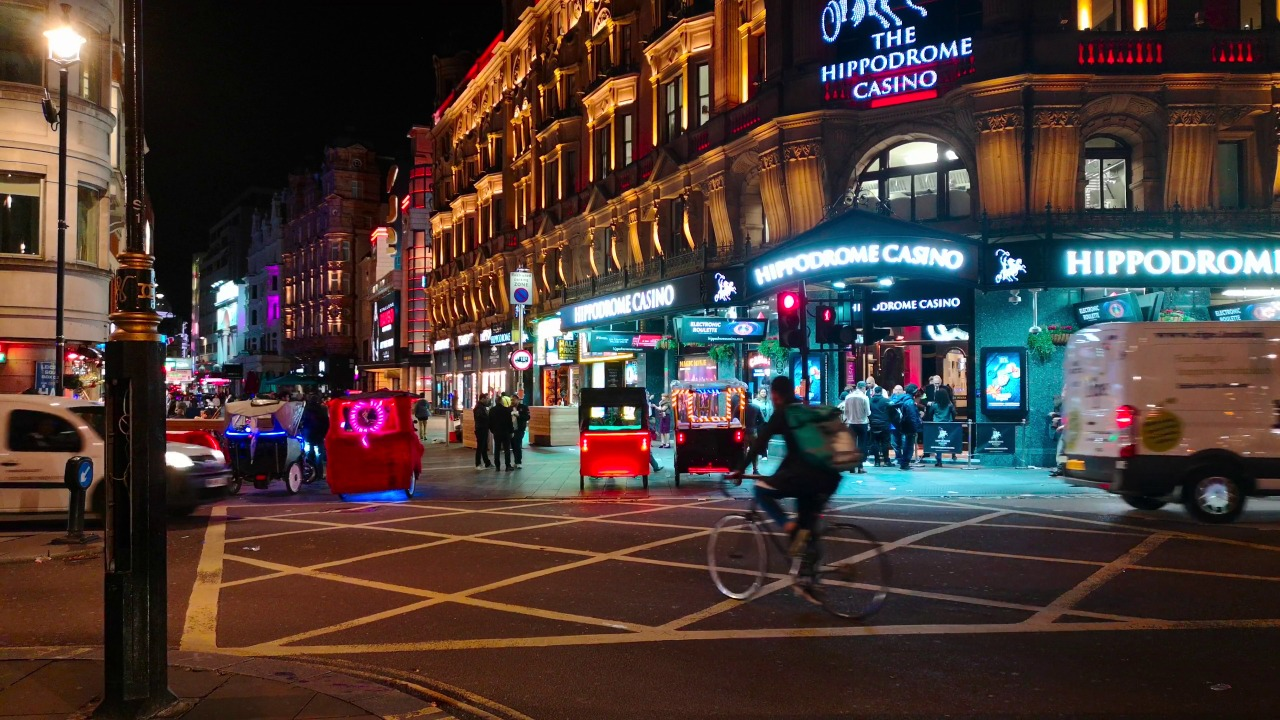car: (1072, 320, 1280, 526), (1, 387, 221, 533), (339, 397, 422, 503), (239, 391, 311, 494), (581, 395, 650, 479), (679, 389, 736, 461), (176, 419, 242, 442)
person: (768, 387, 818, 601), (899, 379, 922, 465), (930, 389, 952, 464), (872, 392, 891, 466), (849, 383, 866, 458), (513, 397, 528, 469), (474, 393, 487, 469), (494, 404, 506, 473), (659, 398, 670, 452), (416, 399, 430, 439), (927, 369, 945, 383), (871, 376, 883, 387), (760, 389, 764, 405)
